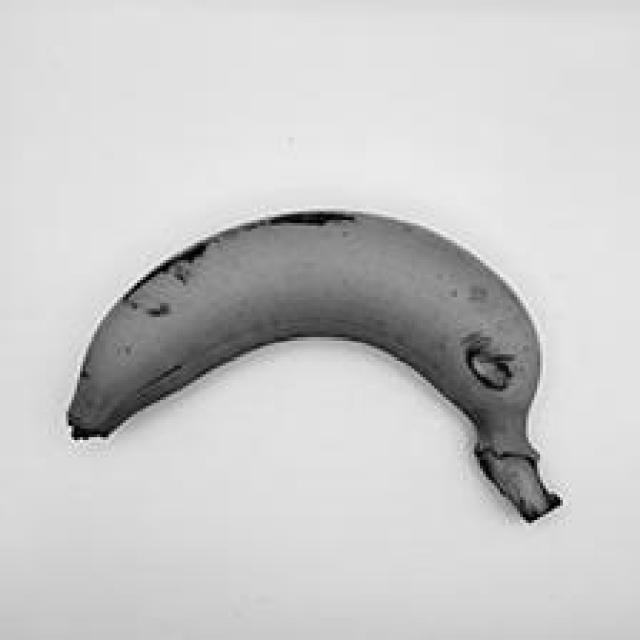Raw: (52, 195, 568, 535)
